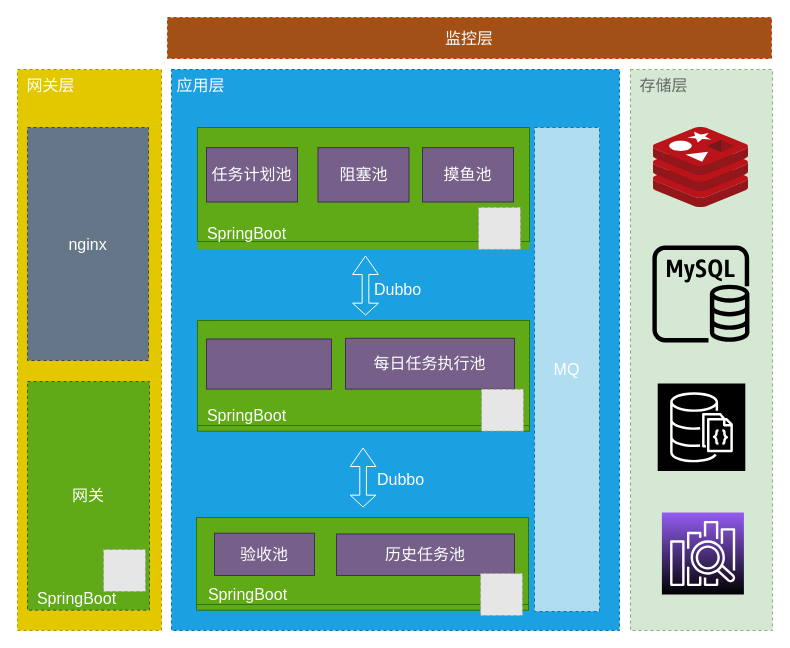
This 790x648 diagram has some shape labels left out. Grey dashed boxes stand in for pictures. Here are the shapes that lost their labels. From the top down, the centre of each, then its label:
point 700,167: Redis
point 700,293: MySQL
point 269,363: 就绪池
point 701,426: MongoDB
point 702,553: Elasticsearch
